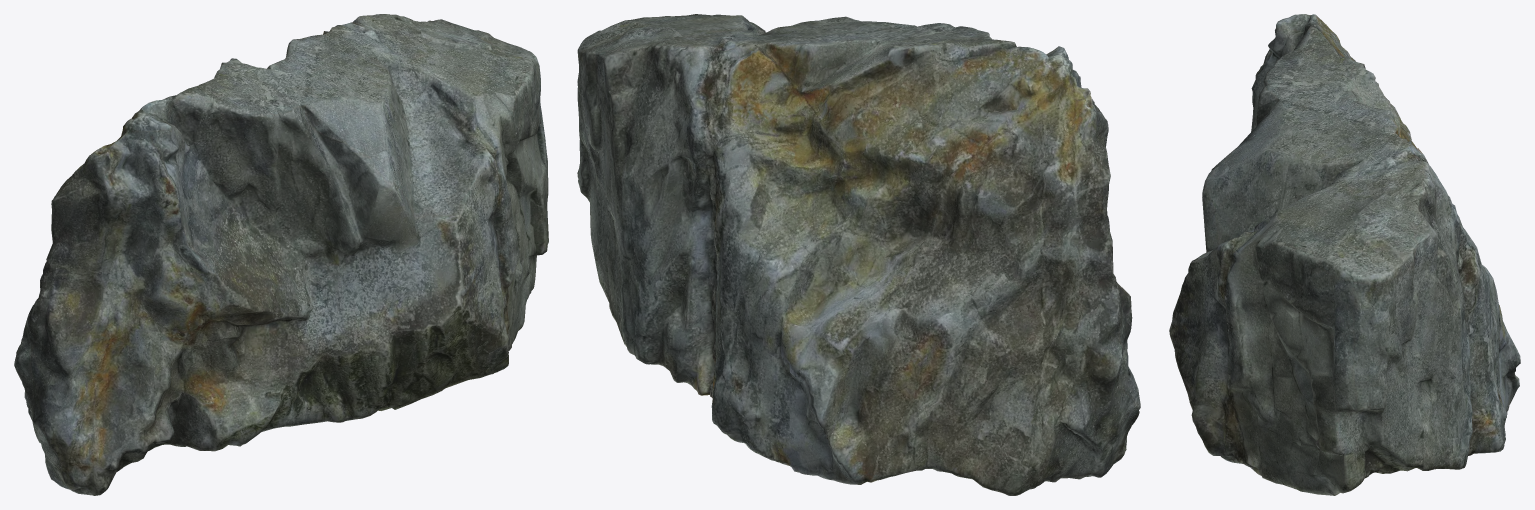
File: alpine-rock-1.glb
3 renders of one model, left to right at view 1: azimuth 30°, elevation 25°; view 2: azimuth 150°, elevation 25°; view 3: azimuth 270°, elevation 25°, orthographic. The views are drawn at different scales.
Parts seen in each view (by area): view 1: Object_2; view 2: Object_2; view 3: Object_2.
Part boxes in pixels (x1,y1,x2,y2): Object_2: (14, 14, 548, 495); Object_2: (577, 14, 1140, 495); Object_2: (1169, 14, 1520, 495).
Size of the model in its own units: 0.3343 by 0.2308 by 0.1987.
1 material, 1 textured.
